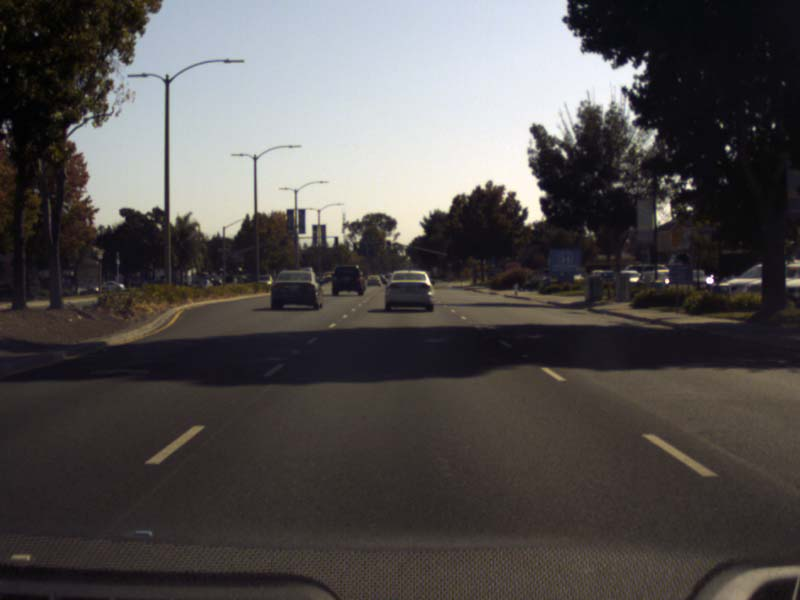Green: (447, 259, 451, 266)
